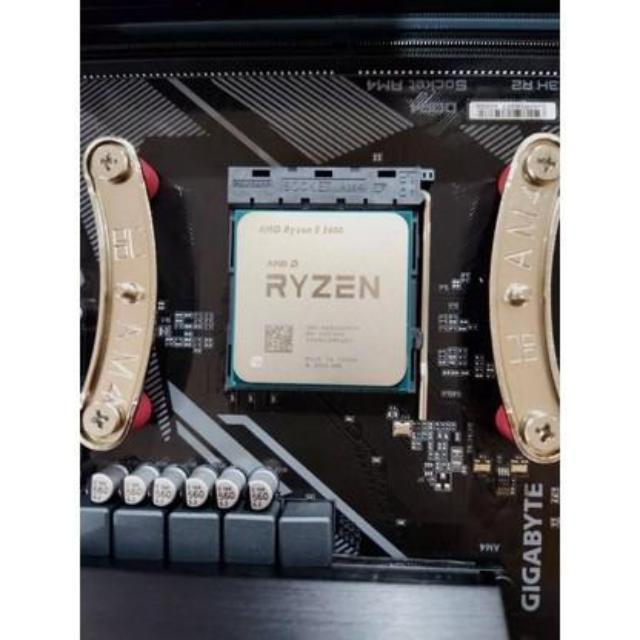CPU: (231, 212, 411, 388)
